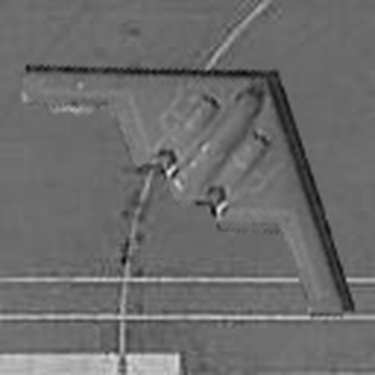airplane: (17, 47, 349, 331)
